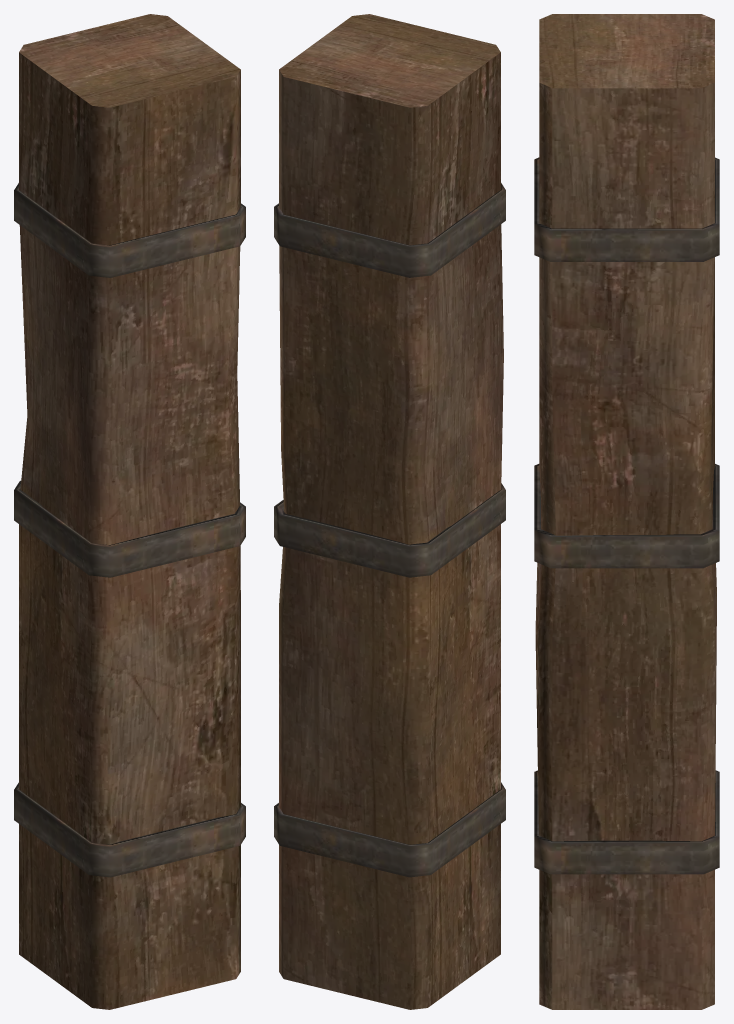
3 renders of one model, left to right at view 1: azimuth 30°, elevation 25°; view 2: azimuth 150°, elevation 25°; view 3: azimuth 270°, elevation 25°, orthographic. The views are drawn at different scales.
Parts seen in each view (by area): view 1: SM_BB_T3_Extended_Beam_Thick_Large_Vertical_LOD0; view 2: SM_BB_T3_Extended_Beam_Thick_Large_Vertical_LOD0; view 3: SM_BB_T3_Extended_Beam_Thick_Large_Vertical_LOD0.
Boxes of the visible parts, <box> form: SM_BB_T3_Extended_Beam_Thick_Large_Vertical_LOD0: <box>14,14,245,1009</box>; SM_BB_T3_Extended_Beam_Thick_Large_Vertical_LOD0: <box>274,14,505,1009</box>; SM_BB_T3_Extended_Beam_Thick_Large_Vertical_LOD0: <box>534,14,719,1009</box>.
Bounding box in the file's own units: 0.548 × 3.01 × 0.5477.
2 materials, 2 textured.
